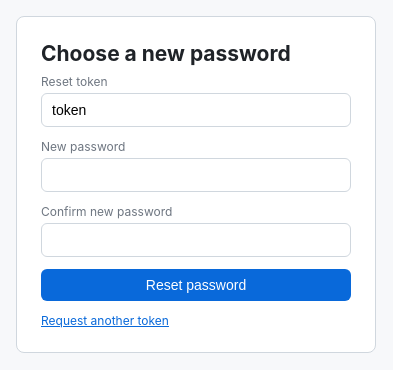
Scenario: PasswordResetPage › confirms and preserves next on the sign-in action
Step 1. Type "new-password" into the password field labelled "New password" → (196, 175), box [41,158,351,192]
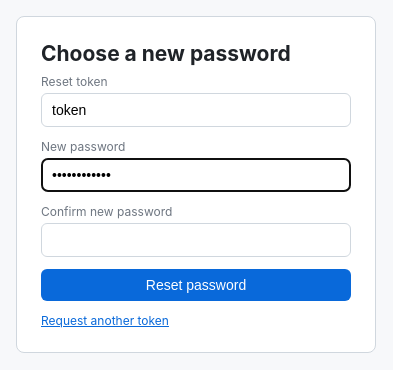
Step 2. Type "new-password" into the password field labelled "Confirm new password" → (196, 240), box [41,223,351,257]
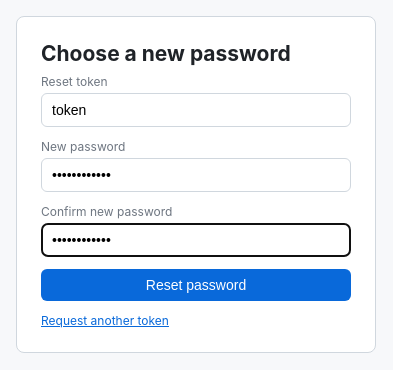
Step 3. Click the button "Reset password" → click(196, 285), box [41,269,351,301]
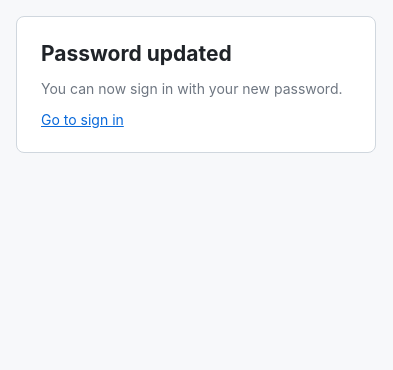
Expected: the heading "Password updated" is shown, [41,41,232,66]
